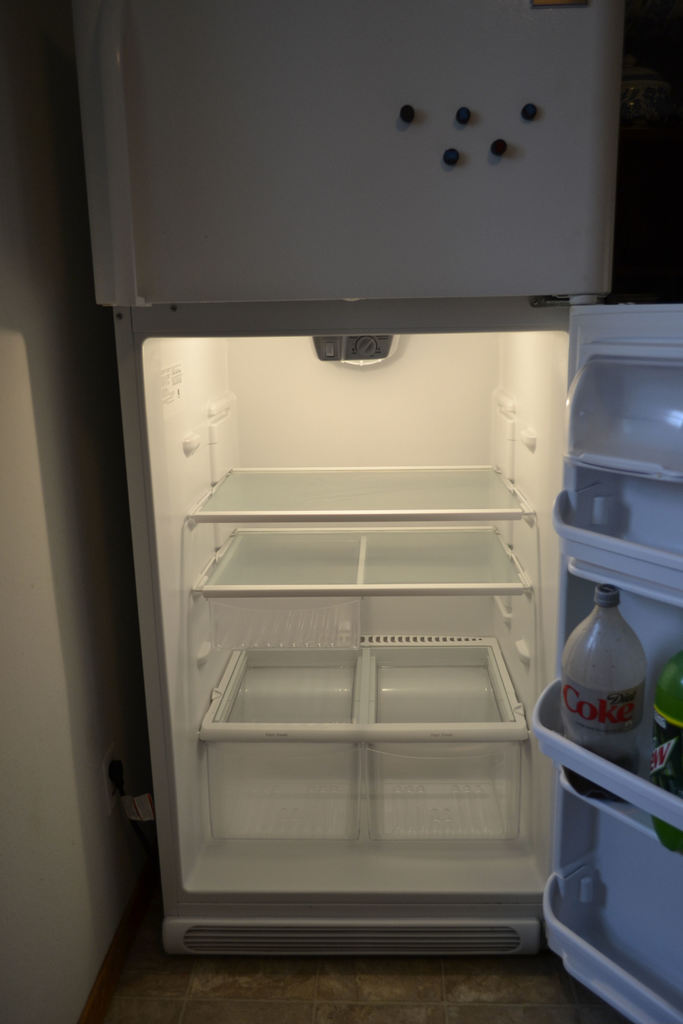refrigerator door: (95, 27, 587, 297), (580, 300, 683, 997)
